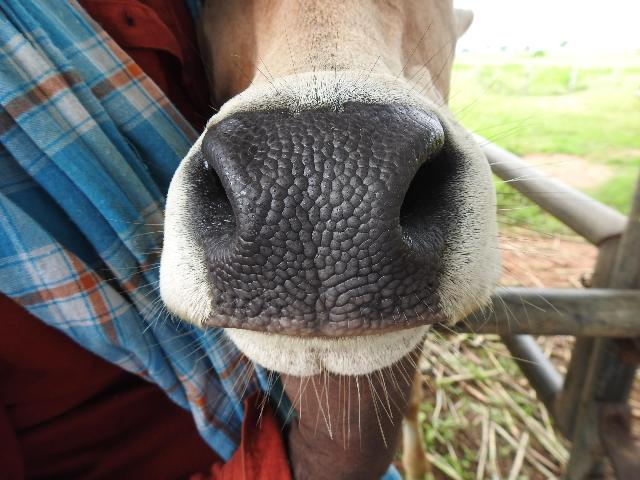Muzzle: (216, 120, 414, 324)
